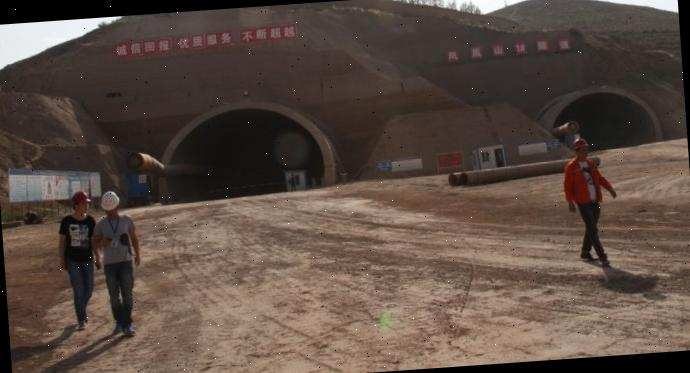helmet: (98, 188, 122, 211), (70, 188, 93, 208), (569, 136, 588, 150)
no_wear: (92, 213, 133, 262), (58, 213, 94, 264)
wear: (568, 156, 600, 204)
